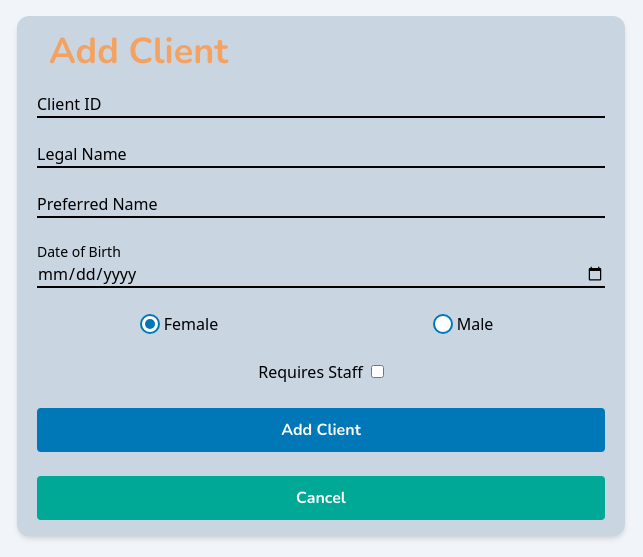
AddClientPage tests › should have an error for all the empty required fields
Click the button "Add Client": (321, 430) [37, 408, 605, 452]
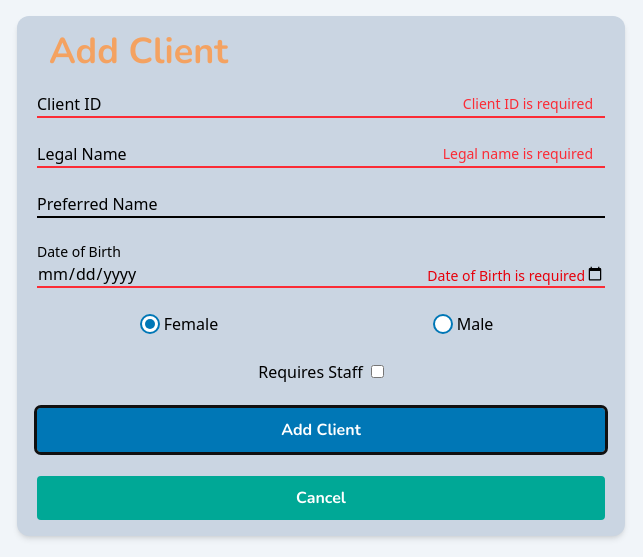
Expected: the text "Client ID is required" is shown, [463, 94, 593, 114]
Expected: the text "Legal name is required" is shown, [443, 144, 593, 164]
Expected: the text "Date of Birth is required" is shown, [427, 266, 585, 286]
